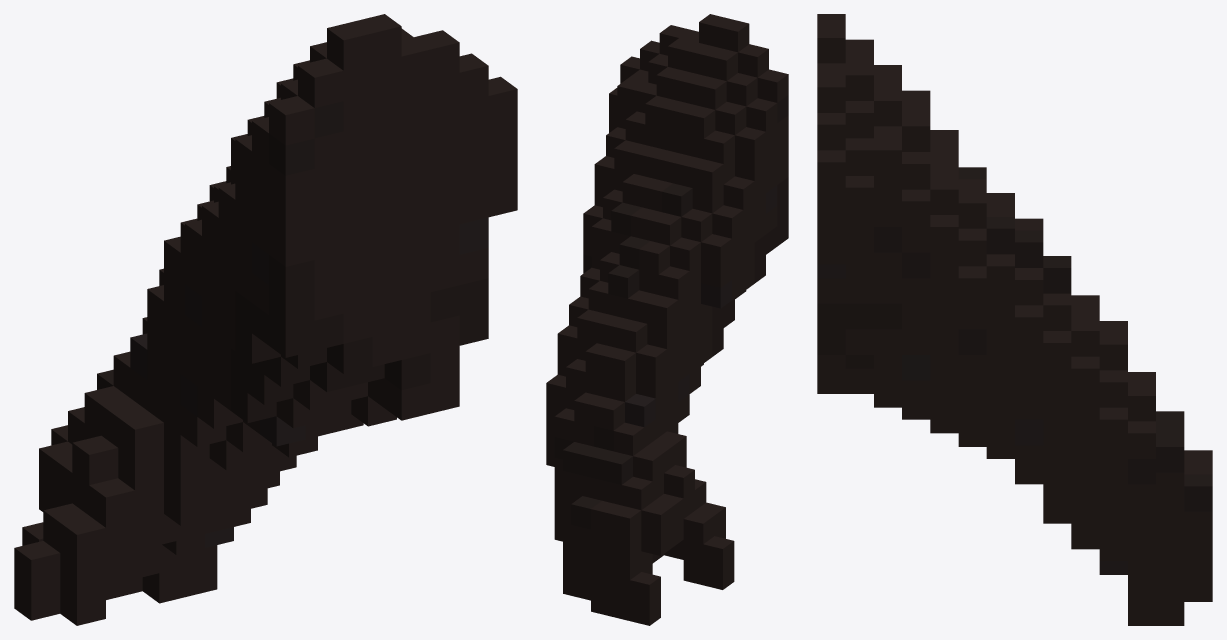
The model's file is bear_split-2-ArmR.obj.
3 renders of one model, left to right at view 1: azimuth 30°, elevation 25°; view 2: azimuth 150°, elevation 25°; view 3: azimuth 270°, elevation 25°, orthographic. The views are drawn at different scales.
Visible parts, largest first — view 1: ArmR; view 2: ArmR; view 3: ArmR.
Part boxes in pixels (box(x1,y1,x2,y2)): ArmR: box(14, 14, 517, 625); ArmR: box(546, 14, 788, 625); ArmR: box(817, 14, 1212, 625).
Size of the model in its own units: 1.1 by 2.3 by 1.4.
Materials: 1 (1 with a texture image).
